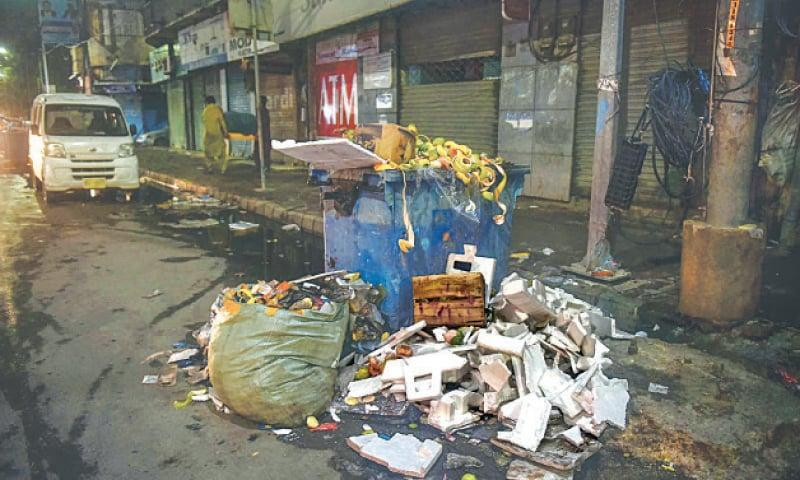garbage: (186, 134, 635, 467)
